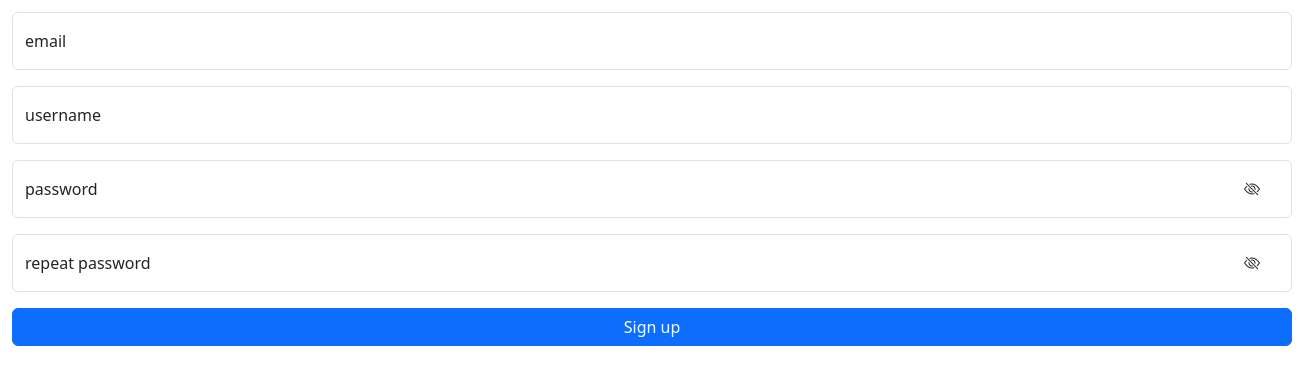
show correctly error message when sigup with email aldready registered
The width and height of the screenshot is (1304, 388).
Type "example@gmail.com" into the field labelled "email". click: (652, 41)
box: [12, 12, 1292, 70]
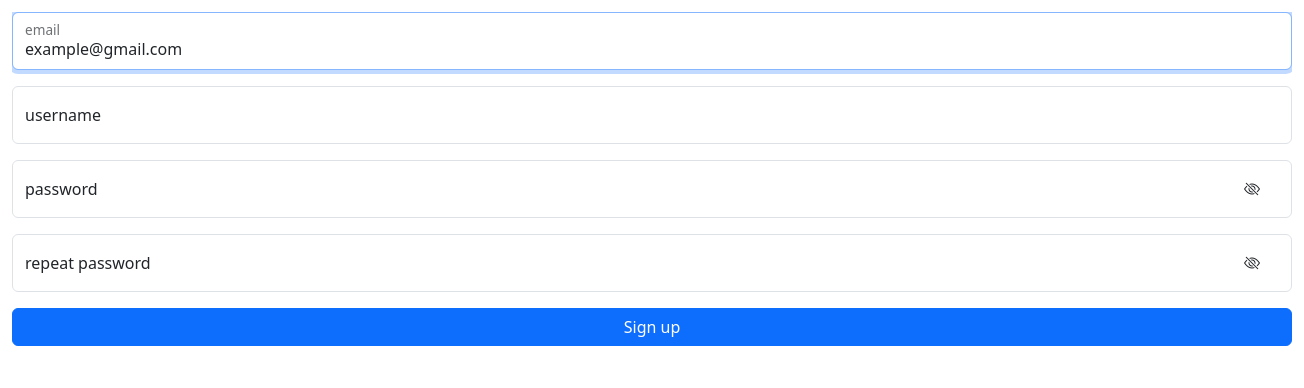
Type "example" into the field labelled "username". click: (652, 115)
box: [12, 86, 1292, 144]
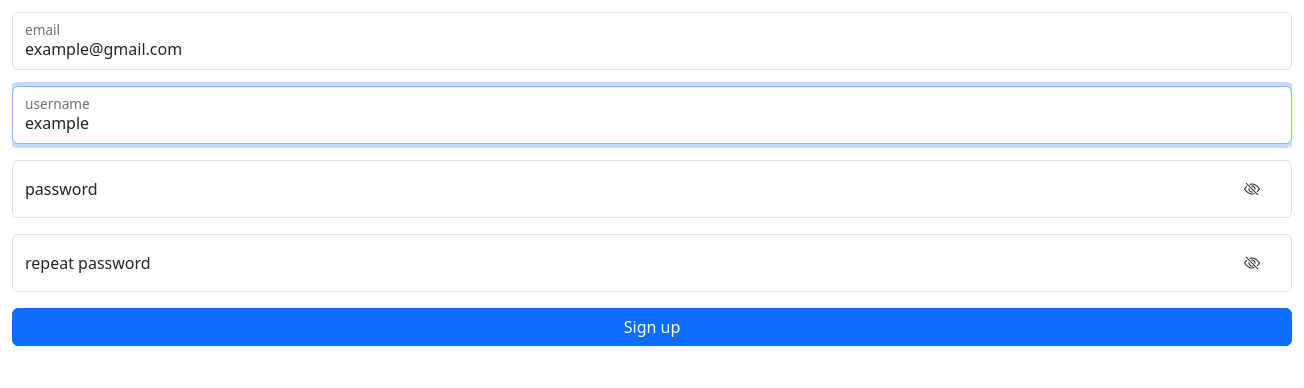
Type "12345" into the password field labelled "password". click: (652, 189)
box: [12, 160, 1292, 218]
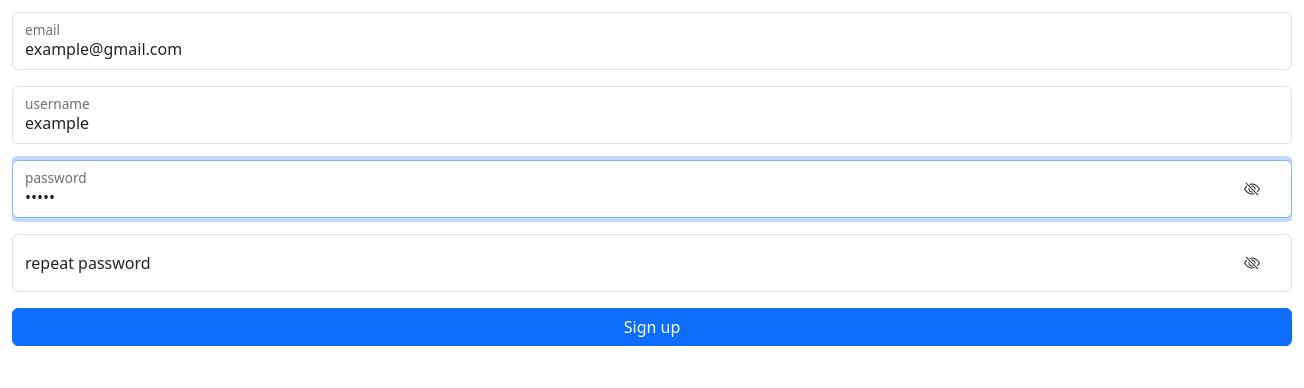
Type "12345" into the password field labelled "repeat password". click: (652, 263)
box: [12, 234, 1292, 292]
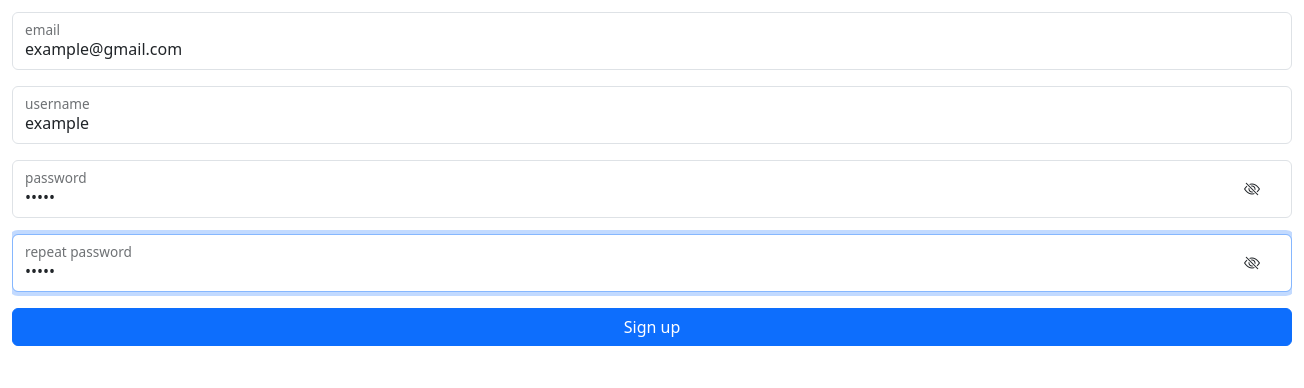
Click the button "Sign up". click: (652, 327)
box: [12, 308, 1292, 346]
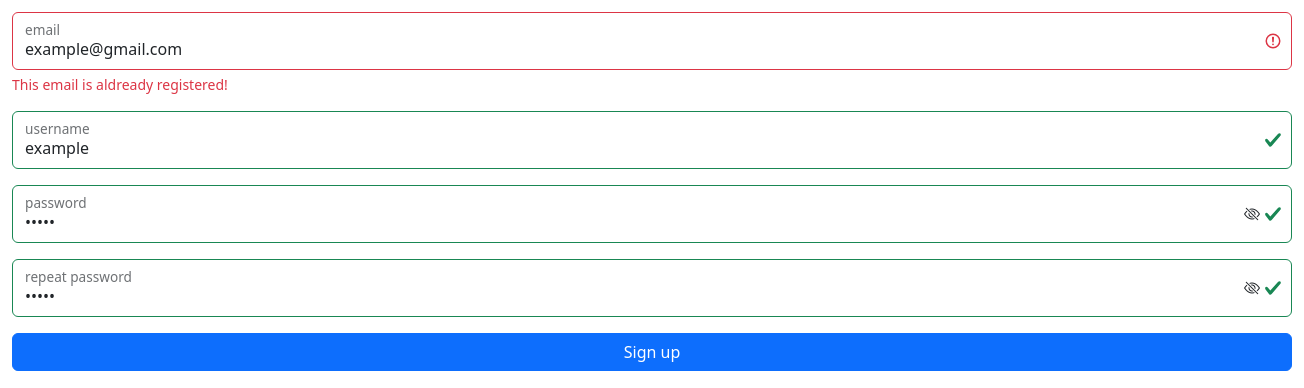
Expected: the text "This email is aldready registered!" is shown, [12, 75, 228, 94]
